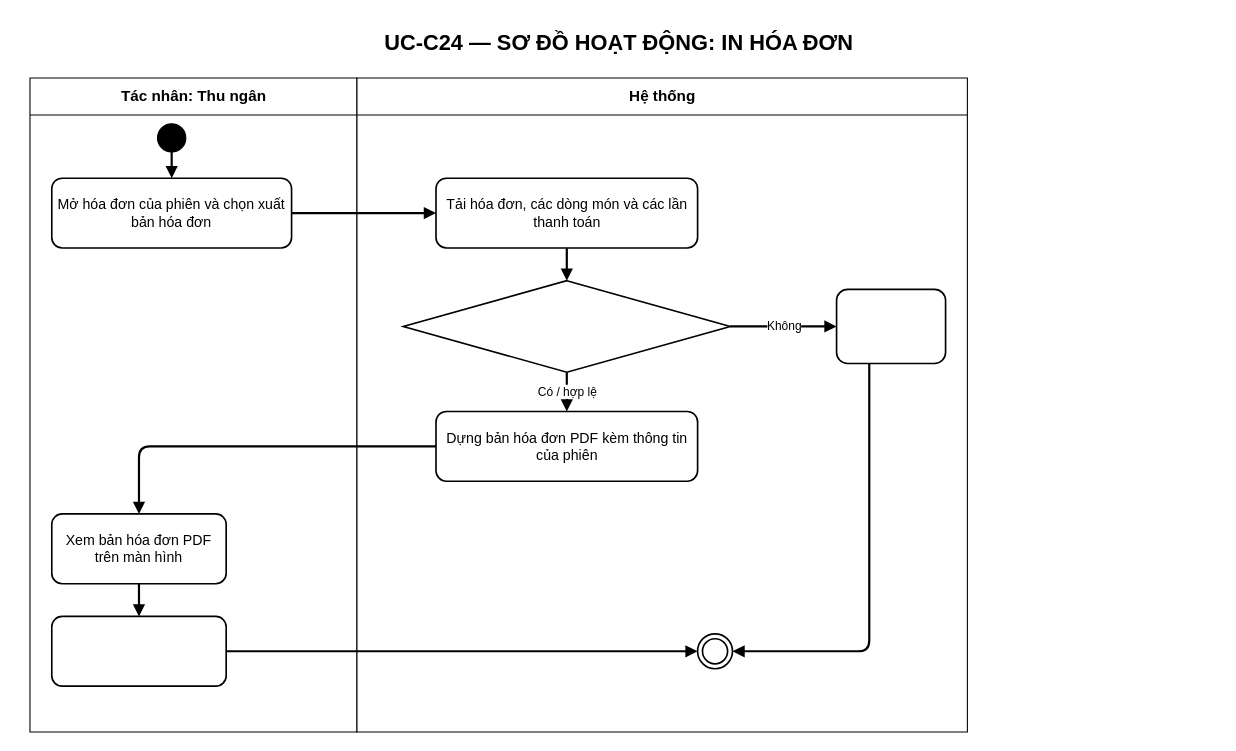
The diagram is 1236 pixels wide and 751 high, and some of its shapes have lost their labels. Here are the shapes that lost their labels. From the top down, the centre of each, then its label:
point (566, 326): Hóa đơn tồn tại?
point (890, 326): Báo không tìm thấy hóa đơn
point (138, 650): Tải bản PDF về máy nếu cần lưu
